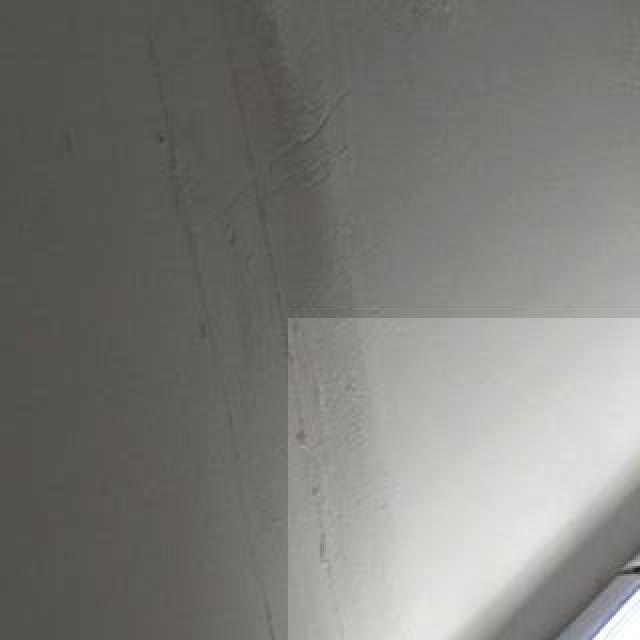fluorescent tube: (354, 358, 640, 640)
